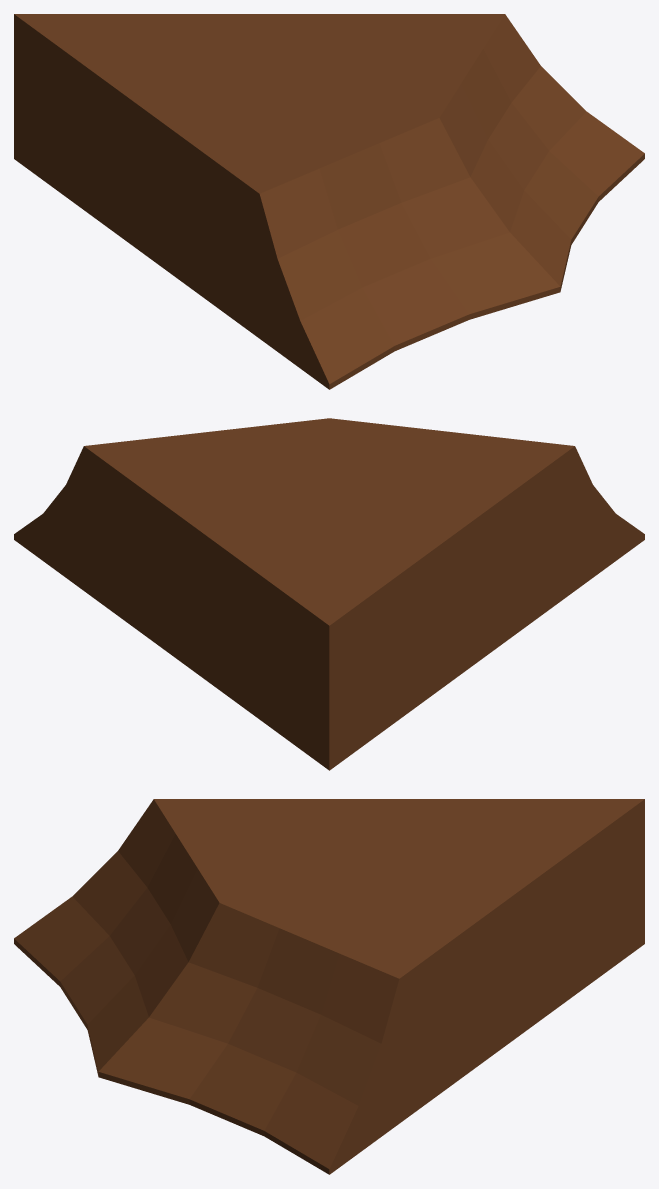
The model's file is Dach_2.fbx.
3 renders of one model, top to bottom at view 1: azimuth 30°, elevation 25°; view 2: azimuth 150°, elevation 25°; view 3: azimuth 270°, elevation 25°, orthographic.
Visible parts, largest first — view 1: Dach_2; view 2: Dach_2; view 3: Dach_2.
Boxes of the visible parts, x1=… form: Dach_2: x1=14, y1=14, x2=644, y2=389; Dach_2: x1=14, y1=418, x2=644, y2=770; Dach_2: x1=14, y1=799, x2=644, y2=1174.
Size of the model in its own units: 888 by 260 by 1026.
